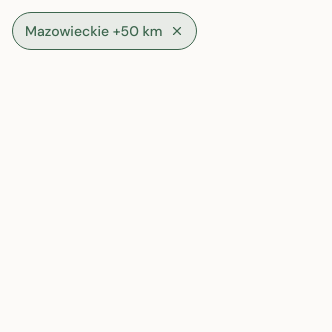
Test: CityFilterDropdown — suwak odleglosci (FMN-B24) › 'wstecz' zdejmuje dist z adresu: suwak wraca na 0 km
This screenshot has width=332, height=332.
Later steps or results of the test are not shown.
Step 1. Click the button "Mazowieckie +50 km" → (105, 31), box left=12, top=12, right=198, bottom=50
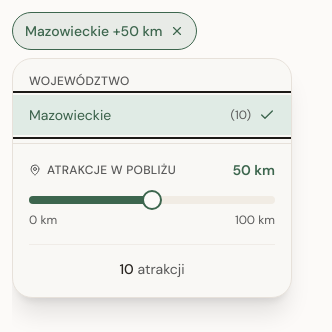
Check: the text "50 km" is shown, box left=232, top=160, right=275, bottom=180
